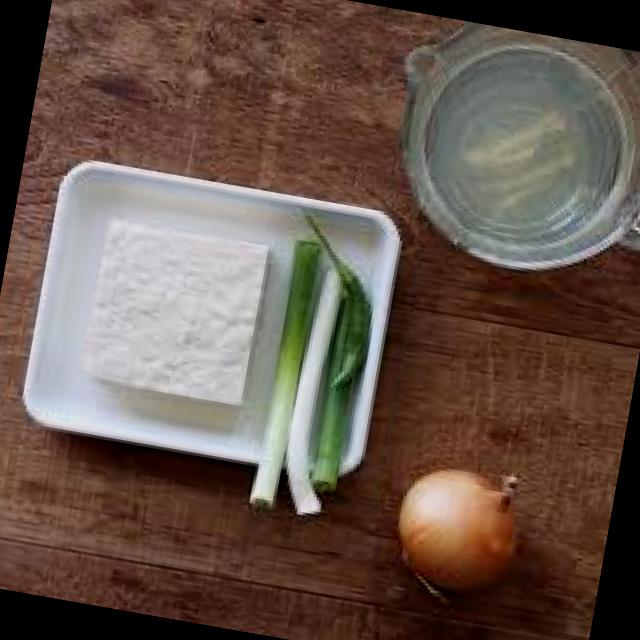tof: (64, 202, 286, 420)
